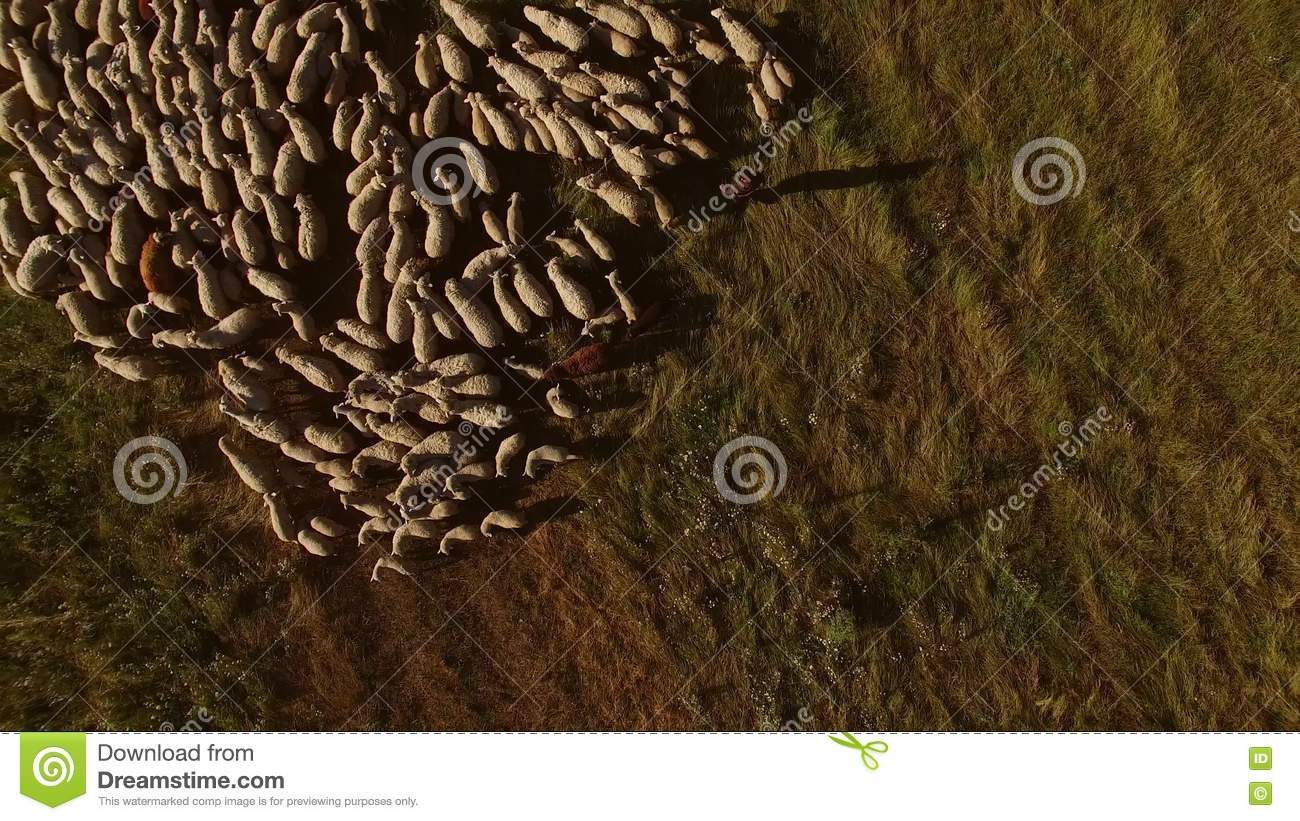sheep: (442, 273, 505, 348), (381, 254, 428, 345), (5, 35, 60, 110), (575, 172, 648, 227), (54, 150, 111, 220), (10, 118, 67, 188), (274, 341, 348, 394), (520, 3, 591, 55), (72, 107, 132, 168), (708, 3, 763, 67), (411, 187, 459, 260), (135, 111, 178, 192), (415, 268, 464, 339), (596, 128, 653, 188), (218, 396, 290, 443), (58, 127, 117, 184), (485, 50, 548, 103), (553, 99, 606, 162), (545, 255, 596, 320), (276, 100, 327, 165), (186, 250, 232, 322), (186, 306, 261, 350), (580, 56, 650, 103), (179, 42, 222, 118), (286, 29, 329, 105), (217, 355, 273, 413), (108, 164, 166, 220), (218, 434, 273, 493), (244, 58, 289, 130), (348, 169, 399, 232), (16, 234, 67, 296), (109, 186, 147, 267), (222, 153, 272, 214), (458, 241, 515, 294), (291, 191, 332, 264), (362, 47, 406, 114), (474, 89, 521, 151), (227, 202, 273, 265), (398, 429, 462, 474), (489, 270, 533, 335), (318, 332, 384, 375), (600, 92, 664, 136), (391, 456, 447, 506), (60, 47, 100, 117), (510, 259, 556, 319), (121, 18, 157, 94), (61, 51, 101, 119), (189, 154, 234, 213), (346, 133, 389, 193), (630, 174, 676, 230), (585, 18, 642, 63), (141, 230, 181, 294), (8, 167, 52, 225), (68, 246, 115, 299), (364, 409, 429, 447), (452, 398, 519, 434), (405, 297, 440, 365), (54, 292, 108, 336), (43, 1, 79, 65), (225, 5, 257, 76), (353, 257, 386, 325), (273, 140, 311, 199), (385, 209, 415, 283), (433, 31, 474, 84), (572, 214, 617, 262), (351, 438, 404, 478), (351, 90, 380, 162), (603, 266, 640, 322), (541, 230, 594, 269), (648, 66, 696, 109), (300, 418, 354, 456), (387, 392, 449, 425), (523, 445, 583, 479), (45, 185, 88, 232), (335, 317, 391, 353), (92, 349, 154, 381), (357, 214, 390, 273), (390, 373, 454, 403), (510, 39, 570, 71), (544, 64, 602, 97), (334, 4, 364, 67), (686, 26, 734, 65), (409, 32, 440, 90), (423, 81, 454, 139), (332, 401, 379, 439), (168, 207, 197, 268), (436, 373, 503, 399), (445, 460, 497, 493), (263, 493, 297, 543), (632, 140, 685, 172), (479, 508, 528, 542), (392, 519, 438, 554), (759, 47, 787, 104), (331, 94, 357, 153), (400, 497, 461, 522), (495, 431, 528, 477), (502, 190, 529, 243), (437, 523, 477, 558), (325, 50, 350, 106), (545, 383, 581, 421), (369, 555, 416, 583), (75, 329, 125, 355), (296, 530, 340, 559), (337, 491, 388, 516), (349, 369, 390, 400), (744, 77, 772, 122), (143, 290, 195, 314), (279, 438, 327, 463), (477, 206, 509, 243), (356, 516, 394, 546), (126, 302, 156, 340), (307, 514, 346, 539), (315, 458, 353, 479), (327, 476, 368, 494)
